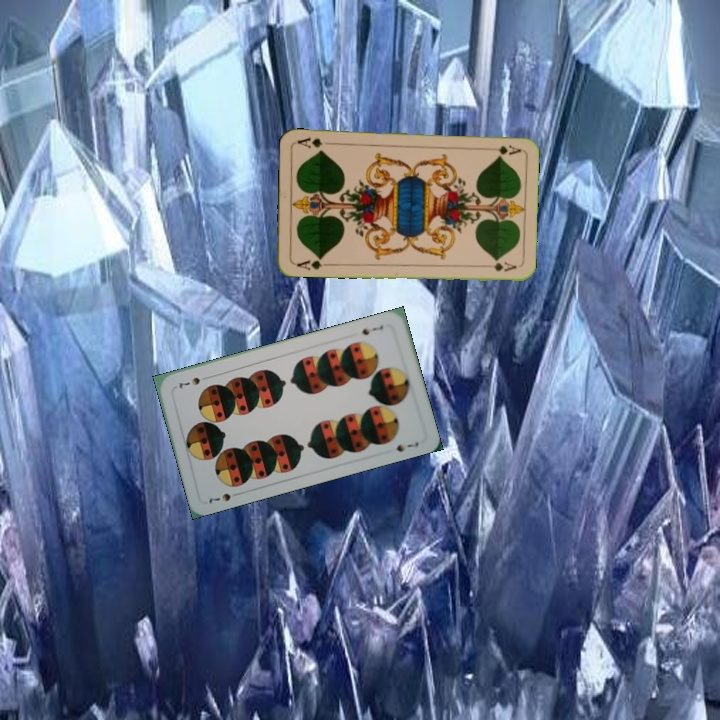GA: (291, 253, 331, 273), (483, 141, 523, 157)
S7: (205, 488, 243, 507), (358, 321, 386, 338)
